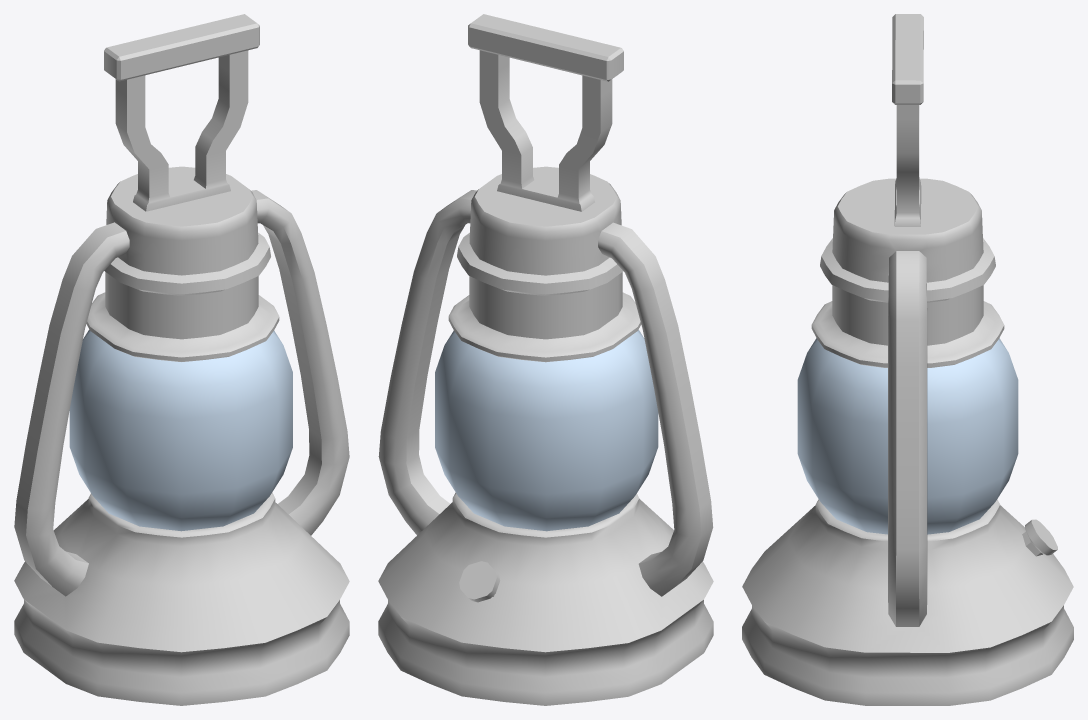
File: Lamp.fbx
The picture shows the model from 3 angles, left to right: view 1: azimuth 30°, elevation 25°; view 2: azimuth 150°, elevation 25°; view 3: azimuth 270°, elevation 25°; orthographic projection.
Visible parts, largest first — view 1: Cylinder.001, Cylinder.002; view 2: Cylinder.001, Cylinder.002; view 3: Cylinder.001, Cylinder.002.
Part boxes in pixels (x1,y1,x2,y2): Cylinder.001: (14, 14, 349, 705); Cylinder.002: (69, 329, 292, 531); Cylinder.001: (378, 14, 713, 705); Cylinder.002: (435, 329, 658, 531); Cylinder.001: (742, 14, 1073, 705); Cylinder.002: (797, 338, 1018, 534).
Size of the model in its own units: 244 by 432 by 219.
